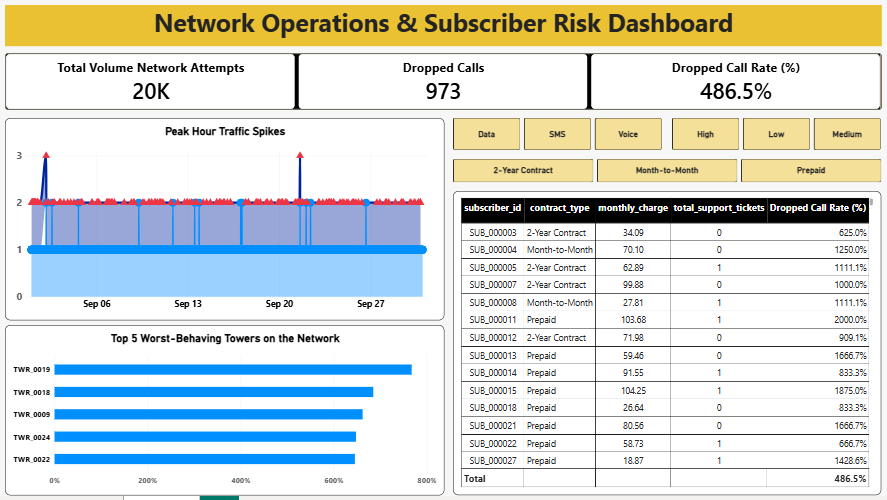

The dashboard page shown, as its layout file describes it:
{"tool":"powerbi","page":{"name":"Page 1","canvas":[1920,1080],"ordinal":0},"visuals":[{"type":"cardVisual","fields":{"Data":["Measures (2).Total Calls","Measures (2).Dropped Calls","Measures (2).Dropped Call Rate (%)"]},"box":[10.8,123.1,1894.3,123.1],"z":0},{"type":"textbox","box":[10.8,19.4,1894.3,88.6],"z":1},{"type":"stackedAreaChart","title":"Peak Hour Traffic Spikes","fields":{"Y":["Measures (2).Total Volume Network Attempts","Measures (2).Dropped Calls"],"Category":["telecom_portfolio call_detail_records.timestamp"]},"box":[10.7,262.8,949.3,437.1],"z":2},{"type":"clusteredBarChart","title":"Top 5 Worst-Behaving Towers on the Network","fields":{"Y":["Measures (2).Dropped Call Rate (%)"],"Category":["telecom_portfolio call_detail_records.tower_id"]},"box":[10.5,711.2,949.5,367.9],"z":3},{"type":"advancedSlicerVisual","fields":{"Values":["telecom_portfolio subscribers.contract_type"]},"box":[978.8,351.3,925.1,50.9],"z":4},{"type":"advancedSlicerVisual","fields":{"Values":["telecom_portfolio cell_towers.capacity_tier"]},"box":[1450.7,262.8,453.2,69.7],"z":5},{"type":"advancedSlicerVisual","fields":{"Values":["telecom_portfolio call_detail_records.service_type"]},"box":[978.8,262.8,453.2,69.7],"z":6},{"type":"tableEx","fields":{"Values":["telecom_portfolio call_detail_records.subscriber_id","telecom_portfolio subscribers.contract_type","telecom_portfolio subscribers.monthly_charge","telecom_portfolio subscribers.total_support_tickets","Measures (2).Dropped Call Rate (%)"]},"box":[978.8,421,925.1,657],"z":7}]}

Visuals, with their boxes in screenshot pixels (x1, y1, x2, y2), scaled from the page's 1920x1080 canvas onto the 887x500 screenshot:
cardVisual - Measures (2).Total Calls x Measures (2).Dropped Calls: Rect(5, 57, 880, 114)
textbox: Rect(5, 9, 880, 50)
"Peak Hour Traffic Spikes" stackedAreaChart: Rect(5, 122, 444, 324)
"Top 5 Worst-Behaving Towers on the Network" clusteredBarChart: Rect(5, 329, 444, 499)
advancedSlicerVisual - telecom_portfolio subscribers.contract_type: Rect(452, 163, 880, 186)
advancedSlicerVisual - telecom_portfolio cell_towers.capacity_tier: Rect(670, 122, 880, 154)
advancedSlicerVisual - telecom_portfolio call_detail_records.service_type: Rect(452, 122, 662, 154)
tableEx - telecom_portfolio call_detail_records.subscriber_id x telecom_portfolio subscribers.contract_type: Rect(452, 195, 880, 499)
